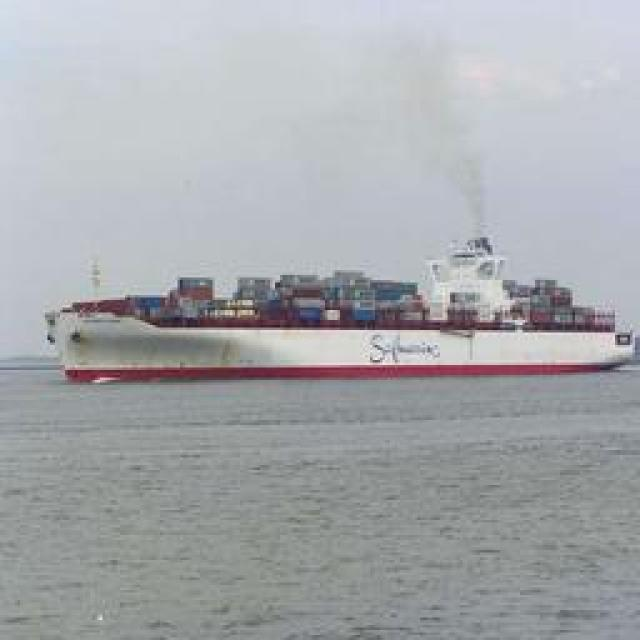Ship: (44, 237, 638, 385)
